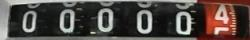digits: (174, 10, 193, 35), (135, 9, 153, 33), (96, 8, 114, 31), (59, 9, 75, 32), (214, 3, 230, 25), (21, 10, 37, 32)
